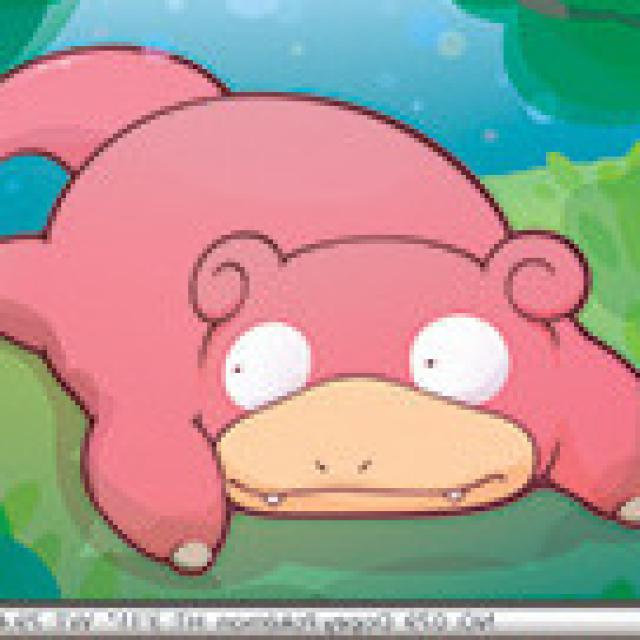Slowpoke: (8, 59, 640, 596)
